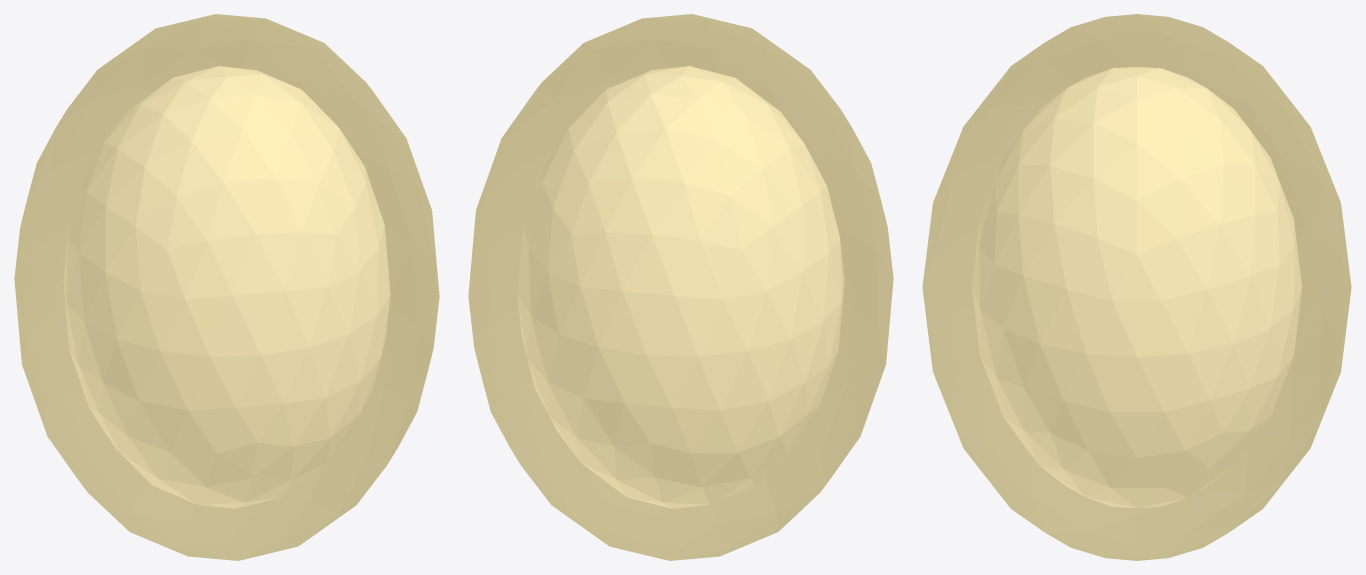
The model's file is beetleegg.glb.
The picture shows the model from 3 angles, left to right: view 1: azimuth 30°, elevation 25°; view 2: azimuth 150°, elevation 25°; view 3: azimuth 270°, elevation 25°; orthographic projection.
Parts seen in each view (by area): view 1: Icosphere; view 2: Icosphere; view 3: Icosphere.
Part boxes in pixels (x1=…): Icosphere: x1=14, y1=14, x2=439, y2=560; Icosphere: x1=468, y1=14, x2=893, y2=560; Icosphere: x1=922, y1=14, x2=1351, y2=560.
Size of the model in its own units: 1.77 by 2.37 by 1.77.
